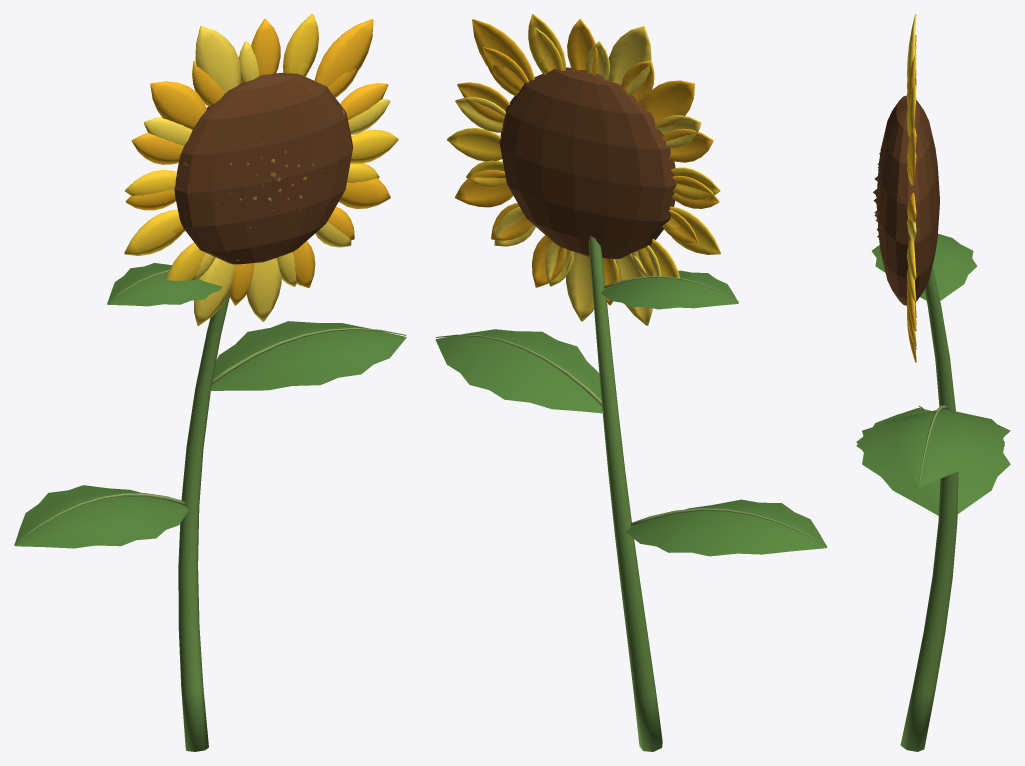
The model's file is sunflower-v2-bloom-0-3.glb.
3 views of the same model, side by side, from view 1: azimuth 30°, elevation 25°; view 2: azimuth 150°, elevation 25°; view 3: azimuth 270°, elevation 25° (orthographic). The views are drawn at different scales.
Visible parts, largest first — view 1: Curved tapered stem; view 2: Curved tapered stem; view 3: Curved tapered stem.
Boxes of the visible parts, x1=… form: Curved tapered stem: x1=14, y1=14, x2=406, y2=751; Curved tapered stem: x1=435, y1=14, x2=827, y2=751; Curved tapered stem: x1=856, y1=14, x2=1010, y2=751.
Size of the model in its own units: 0.3333 by 0.587 by 0.1116.
